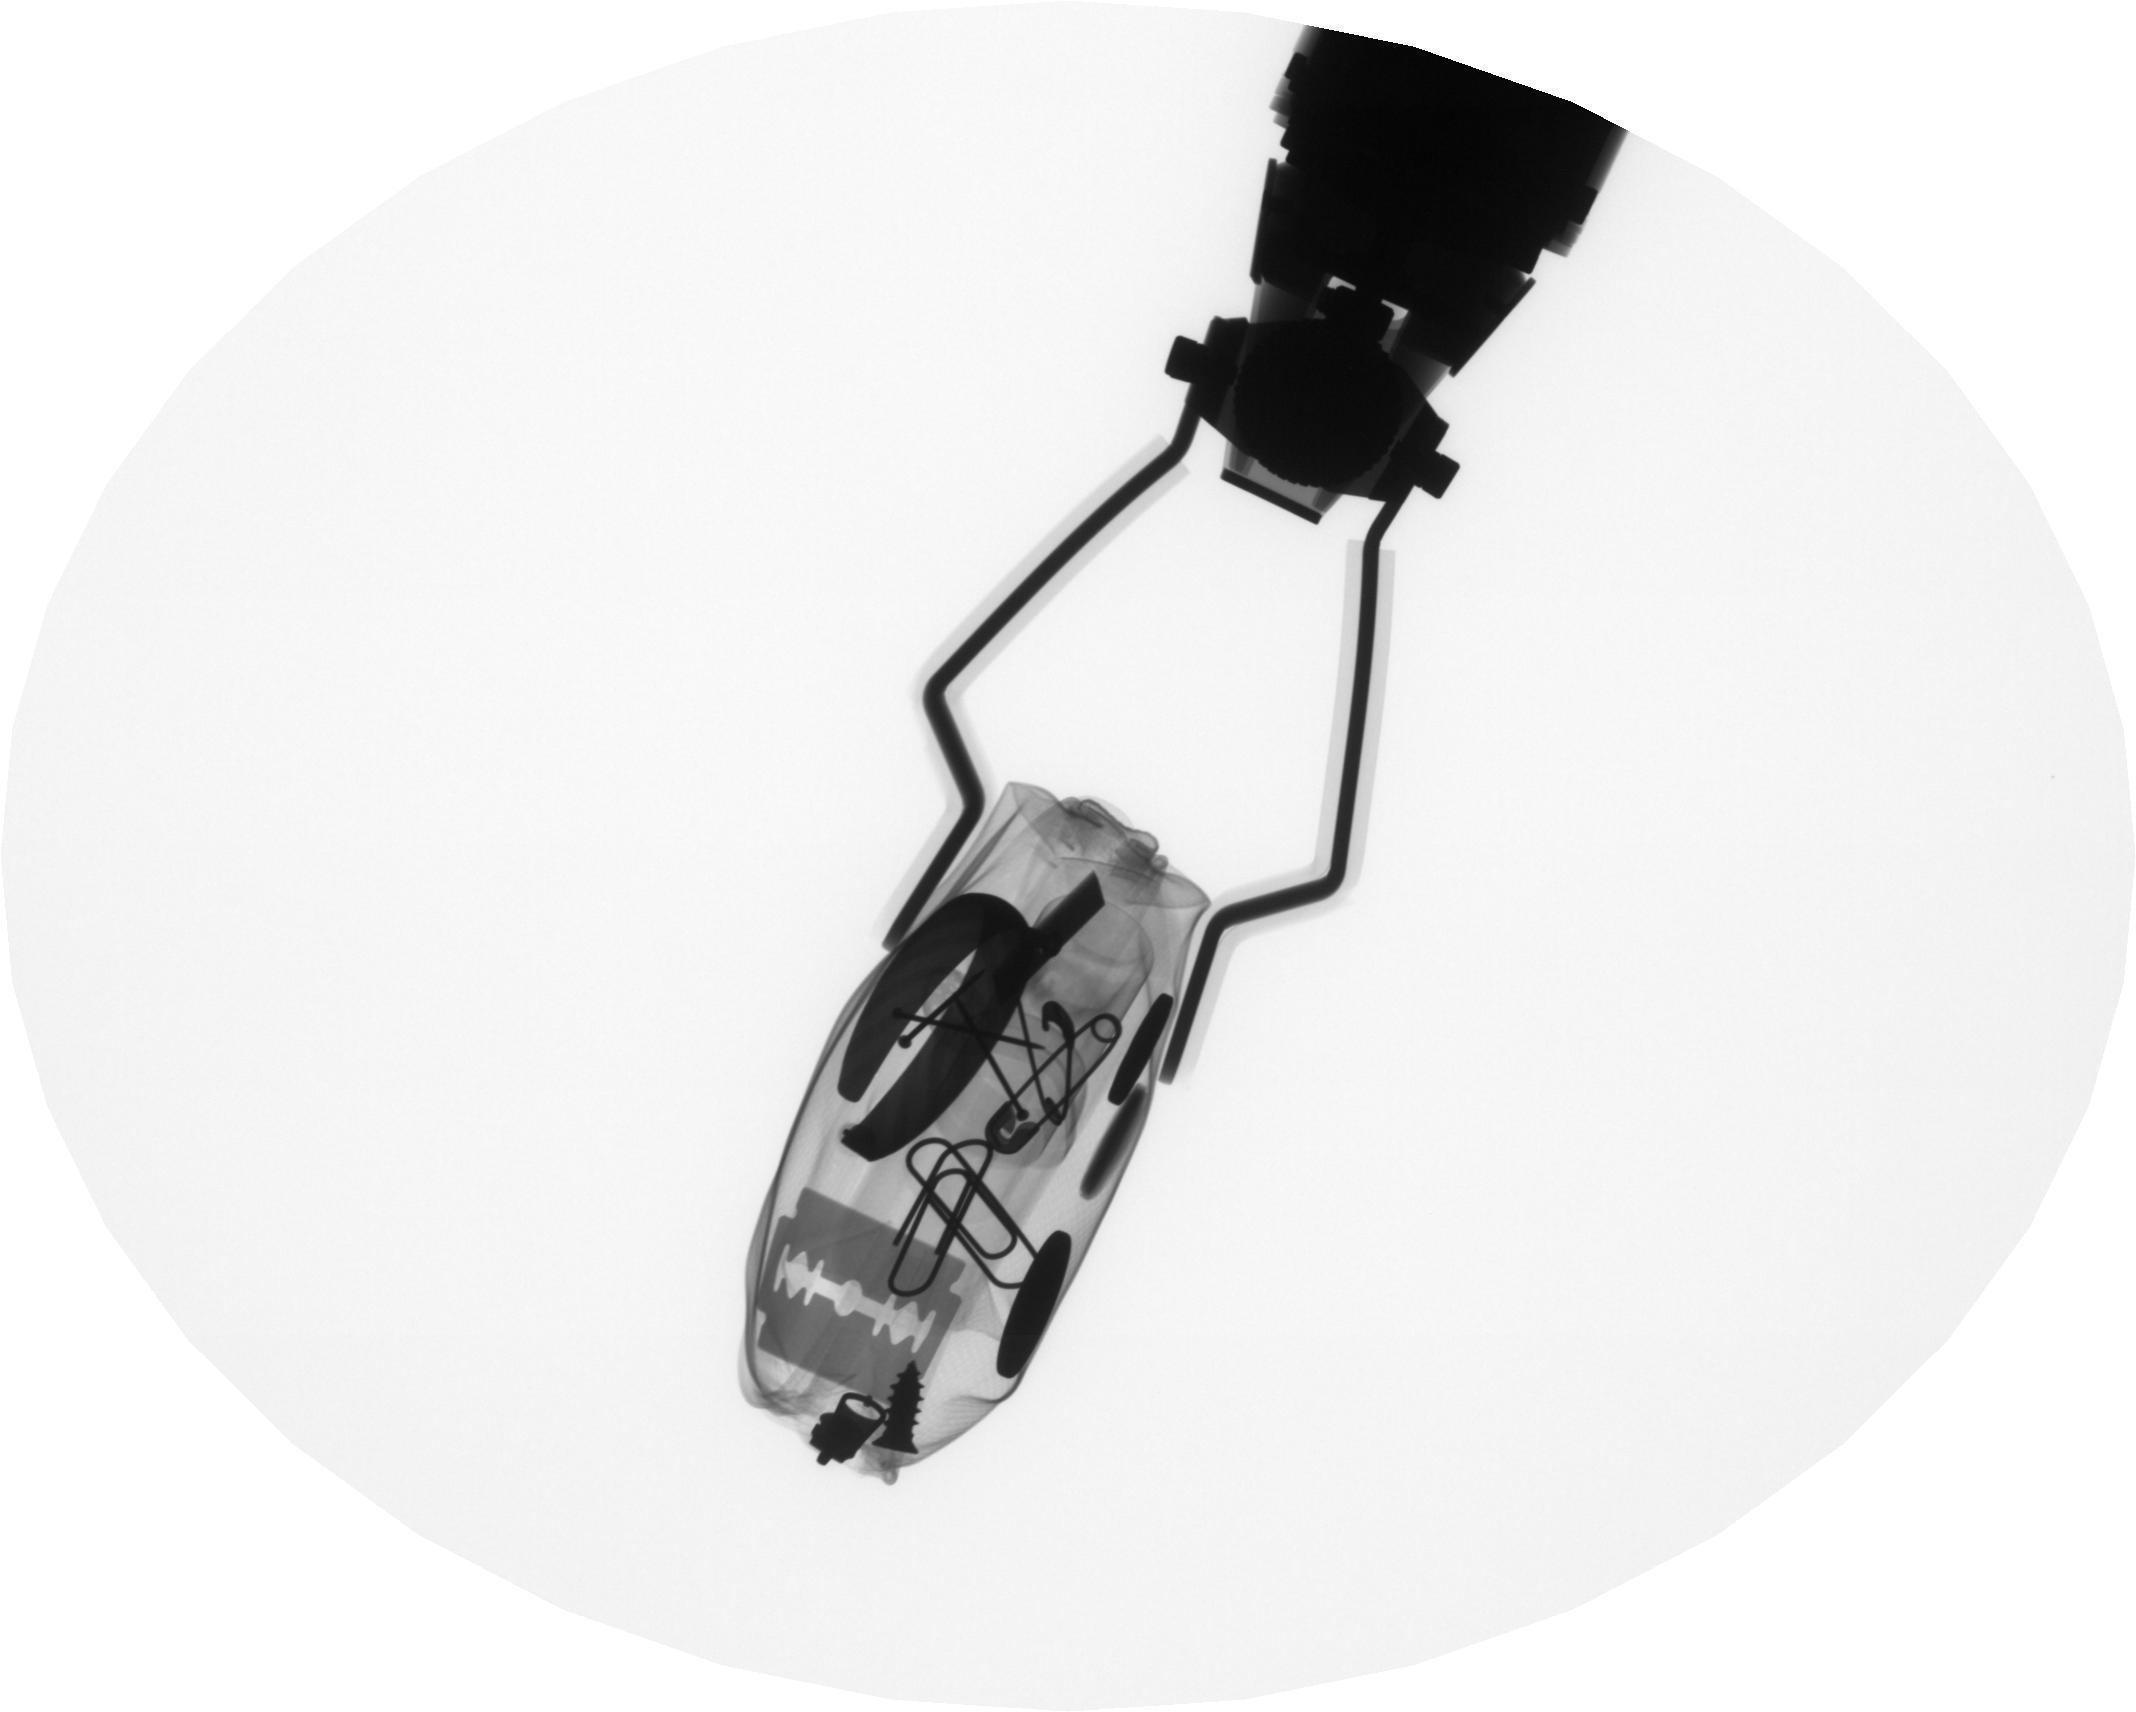RazorBlade: (730, 1165, 976, 1426)
